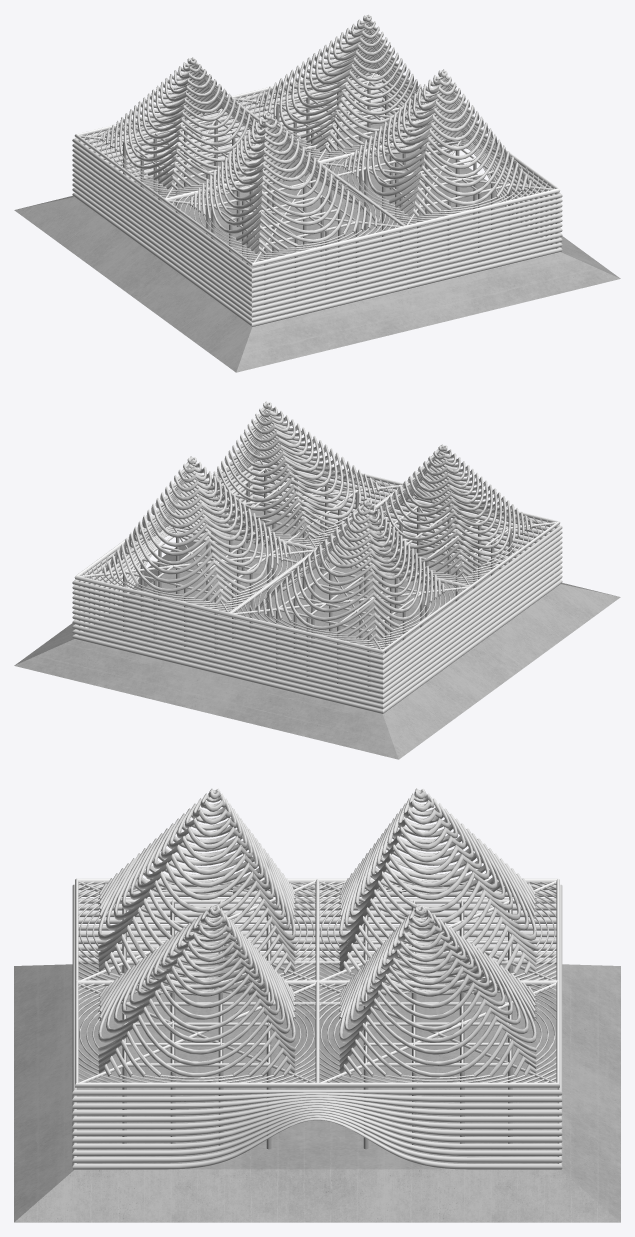
The picture shows the model from 3 angles, top to bottom: view 1: azimuth 30°, elevation 25°; view 2: azimuth 150°, elevation 25°; view 3: azimuth 270°, elevation 25°; orthographic projection. The views are drawn at different scales.
Visible parts, largest first — view 1: XHBTNSPC-REDUCED-100K; view 2: XHBTNSPC-REDUCED-100K; view 3: XHBTNSPC-REDUCED-100K.
Part boxes in pixels (box(x1,y1,x2,y2)): XHBTNSPC-REDUCED-100K: box(14, 14, 620, 372); XHBTNSPC-REDUCED-100K: box(14, 401, 620, 759); XHBTNSPC-REDUCED-100K: box(14, 788, 620, 1222).
Size of the model in its own units: 40 by 17.88 by 40.
Materials: 4 (1 with a texture image).
